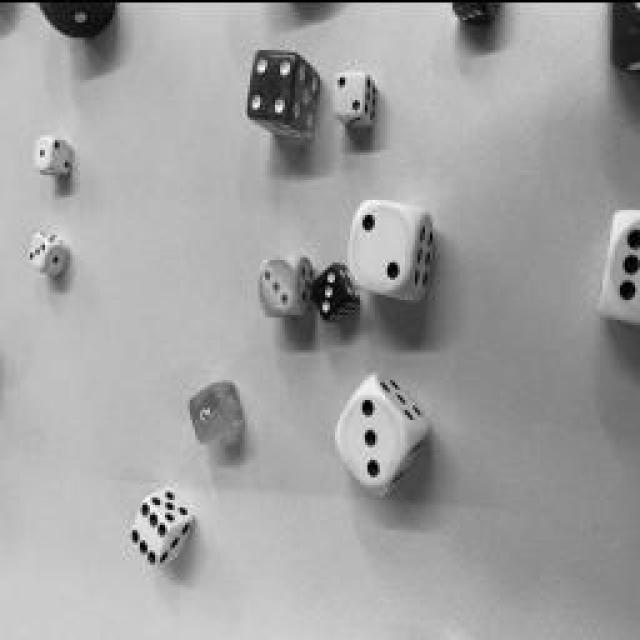dice_1: (35, 138, 50, 168)
dice_2: (350, 200, 415, 290), (335, 72, 365, 112)
dice_3: (338, 388, 402, 484), (311, 265, 349, 317), (260, 256, 295, 312), (190, 385, 225, 440), (30, 235, 45, 265)
dice_4: (248, 52, 298, 118)
dice_6: (132, 500, 168, 565)
